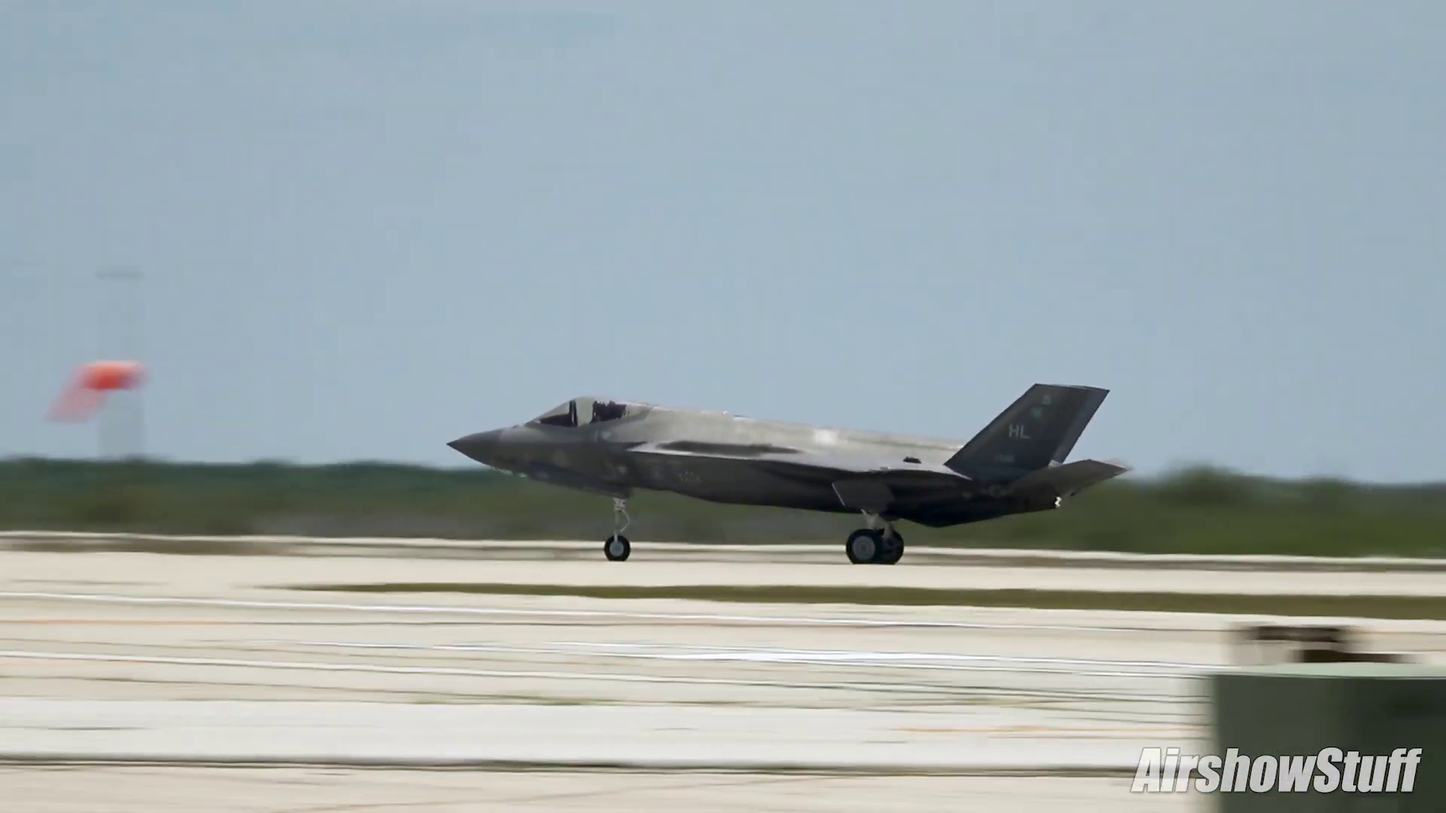F35: (441, 377, 1135, 569)
